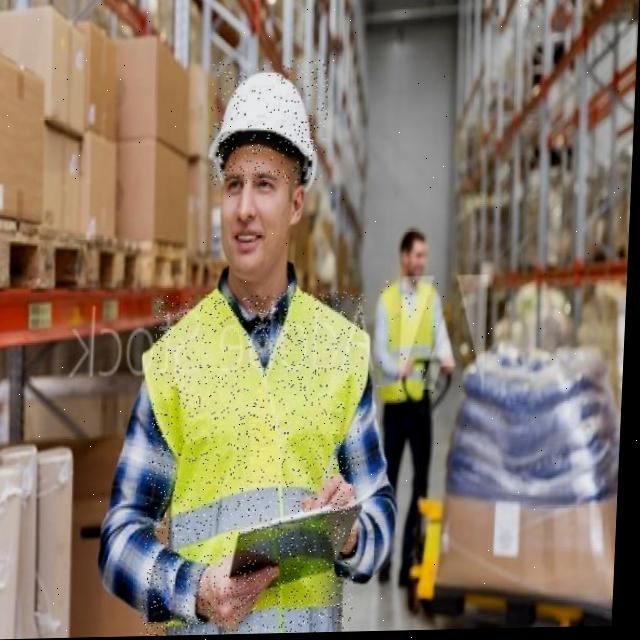Helmet: (208, 70, 325, 194)
No-Glove: (201, 556, 288, 633)
Safety-Vest: (134, 273, 382, 637)
